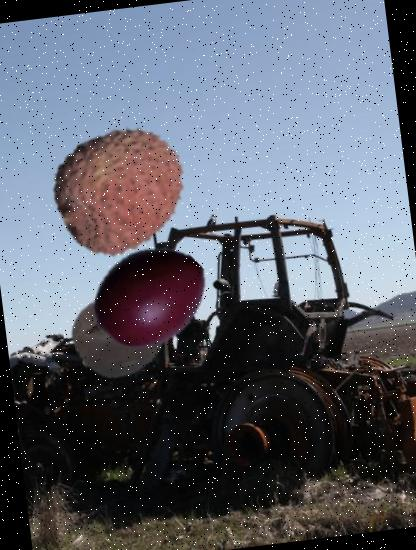Lychee: (46, 115, 198, 267)
Passion: (66, 278, 175, 388)
Tamarillo: (72, 229, 218, 374)
